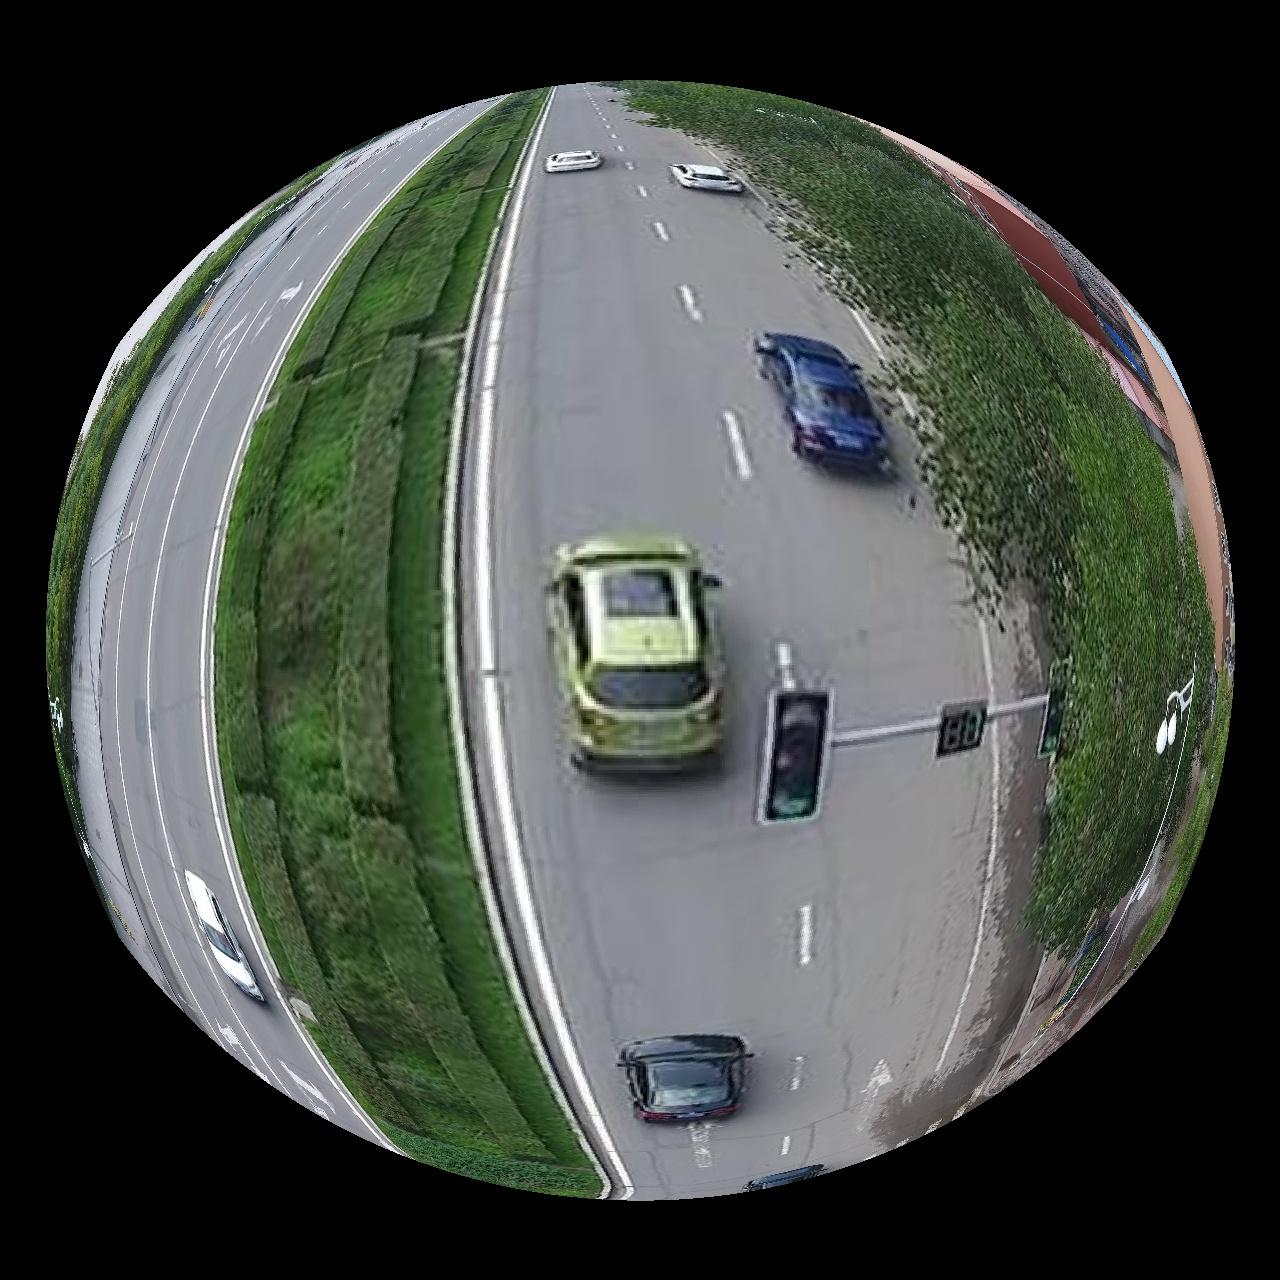cars: (551, 536, 726, 774), (755, 332, 891, 474), (619, 1036, 753, 1123), (184, 871, 264, 1005), (670, 162, 745, 192), (544, 148, 602, 172)
trees: (627, 80, 1232, 955)
